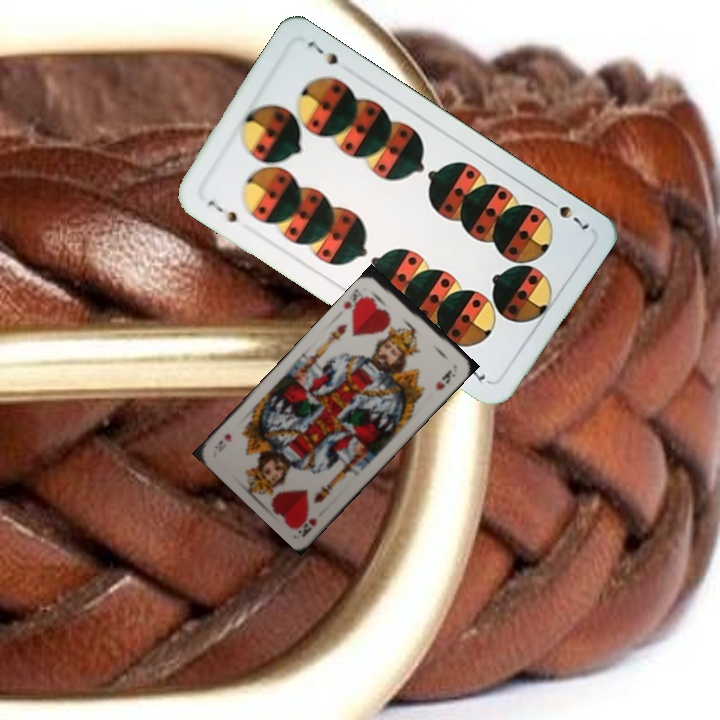HK: (339, 285, 371, 317), (299, 514, 320, 537)
S7: (541, 194, 592, 233), (204, 196, 240, 226)
